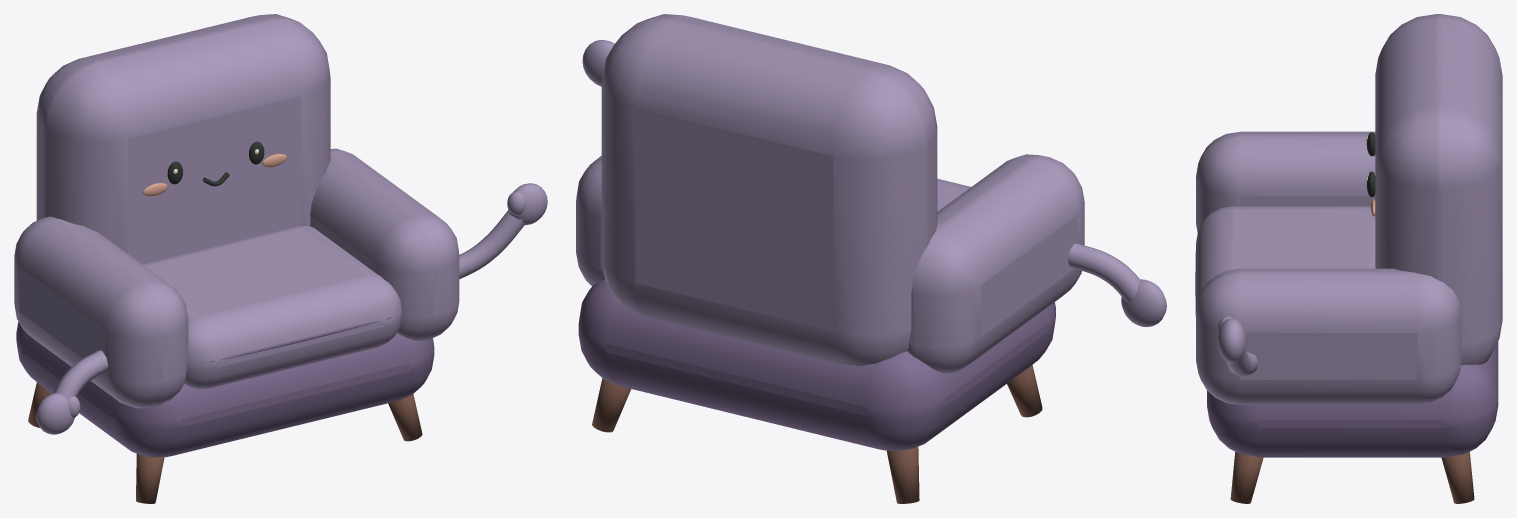
The model's file is armchair.glb.
3 views of the same model, side by side, from view 1: azimuth 30°, elevation 25°; view 2: azimuth 150°, elevation 25°; view 3: azimuth 270°, elevation 25° (orthographic). The views are drawn at different scales.
Visible parts, largest first — view 1: Clean.Back.002, Clean.Seat.002, Clean.Armrest, Clean.Base.001, Clean.Armrest.001, Мягкая рука.003, Мягкая рука.002, Варежка.002, Ножка.004, Ножка.006, Варежка.003, Кант; view 2: Clean.Back.002, Clean.Base.001, Clean.Armrest, Clean.Armrest.001, Мягкая рука.002, Ножка.005, Варежка.002, Ножка.007, Ножка.004, Варежка.003; view 3: Clean.Back.002, Clean.Armrest.001, Clean.Base.001, Clean.Armrest, Clean.Seat.002, Ножка.007, Ножка.006, Варежка.003, Мягкая рука.003.
Part boxes in pixels (box(x1,y1,x2,y2)): Clean.Back.002: box(36, 14, 330, 264); Clean.Seat.002: box(142, 225, 401, 389); Clean.Armrest: box(14, 216, 188, 408); Clean.Base.001: box(16, 322, 434, 457); Clean.Armrest.001: box(310, 148, 459, 340); Мягкая рука.003: box(459, 211, 525, 279); Мягкая рука.002: box(53, 350, 108, 399); Варежка.002: box(36, 393, 74, 434); Ножка.004: box(136, 454, 164, 503); Ножка.006: box(388, 394, 422, 441); Варежка.003: box(508, 183, 547, 225); Кант: box(200, 315, 396, 362); Clean.Back.002: box(601, 14, 937, 366); Clean.Base.001: box(578, 280, 1055, 450); Clean.Armrest: box(907, 154, 1084, 373); Clean.Armrest.001: box(576, 156, 604, 286); Мягкая рука.002: box(1068, 243, 1139, 302); Ножка.005: box(887, 447, 919, 503); Варежка.002: box(1121, 279, 1166, 327); Ножка.007: box(592, 378, 631, 432); Ножка.004: box(1007, 365, 1042, 417); Варежка.003: box(582, 40, 614, 86); Clean.Back.002: box(1375, 14, 1502, 365); Clean.Armrest.001: box(1196, 268, 1461, 404); Clean.Base.001: box(1207, 342, 1498, 457); Clean.Armrest: box(1196, 131, 1375, 232); Clean.Seat.002: box(1196, 206, 1375, 307); Ножка.007: box(1441, 451, 1474, 503); Ножка.006: box(1230, 452, 1263, 503); Варежка.003: box(1217, 318, 1245, 363); Мягкая рука.003: box(1226, 348, 1258, 376).
Size of the model in its own units: 2.82 by 1.91 by 1.42.
